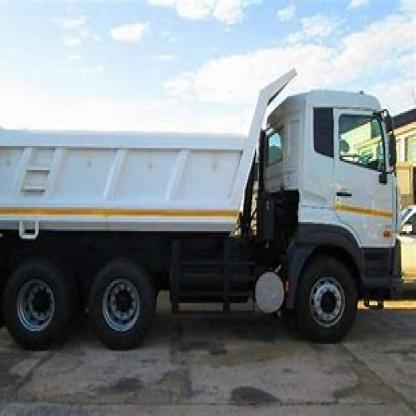dump_truck: (1, 69, 407, 360)
